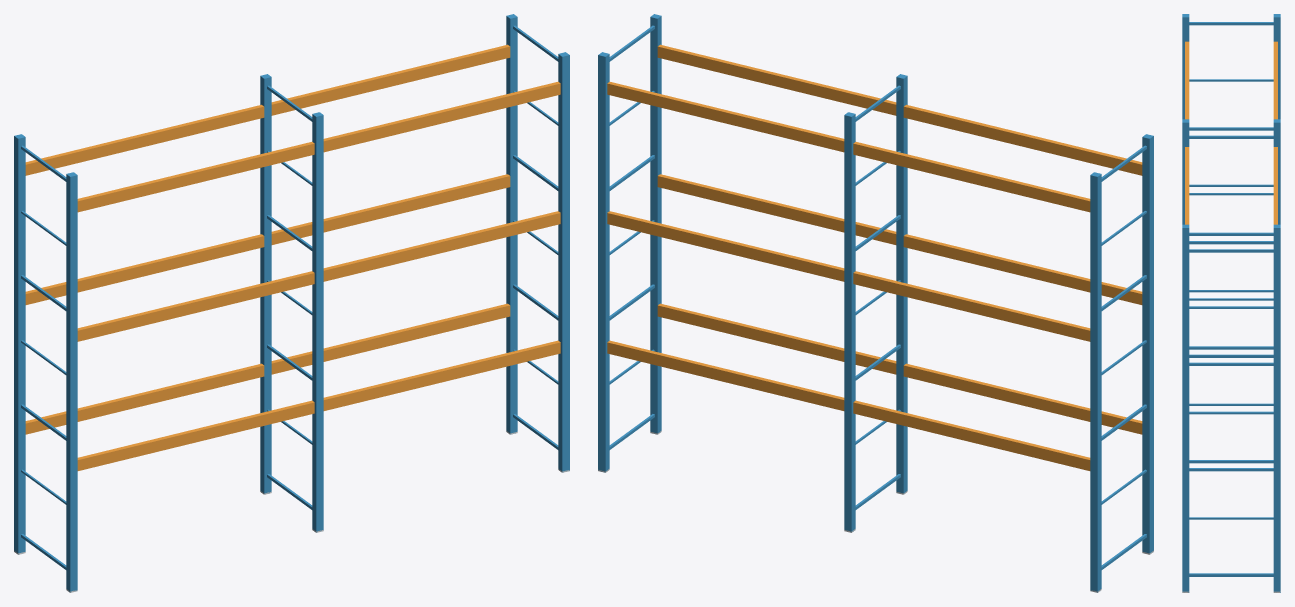
Rendered from concept-pallet-rack-double.glb.
The picture shows the model from 3 angles, left to right: view 1: azimuth 30°, elevation 25°; view 2: azimuth 150°, elevation 25°; view 3: azimuth 270°, elevation 25°; orthographic projection. The views are drawn at different scales.
Visible parts, largest first — view 1: Post, Post.004, Post.002, Post.001, Post.005, Post.003, Beam_Rear.001, Beam_Rear.002, Beam_Rear.004, Beam_Rear.005, Beam_Rear, Beam_Rear.003 (+6 smaller); view 2: Post.001, Post.005, Post.003, Post, Post.004, Post.002, Beam_Front.001, Beam_Front.002, Beam_Front.004, Beam_Front.005, Beam_Front, Beam_Front.003 (+6 smaller); view 3: Post.004, Post.005, Post, Post.001, Post.002, Post.003, Beam_Front.002, Beam_Rear.002, Beam_Front.005, Beam_Rear.005, Frame_Diag_Brace.003, Frame_Horiz_Brace (+19 smaller).
Part boxes in pixels (x1=…): Post: x1=66, y1=172, x2=77, y2=592; Post.004: x1=558, y1=52, x2=569, y2=472; Post.002: x1=312, y1=112, x2=323, y2=532; Post.001: x1=14, y1=134, x2=25, y2=554; Post.005: x1=506, y1=14, x2=517, y2=433; Post.003: x1=260, y1=74, x2=271, y2=493; Beam_Rear.001: x1=77, y1=271, x2=314, y2=341; Beam_Rear.002: x1=77, y1=142, x2=314, y2=212; Beam_Rear.004: x1=323, y1=211, x2=560, y2=281; Beam_Rear.005: x1=323, y1=81, x2=560, y2=152; Beam_Rear: x1=77, y1=400, x2=314, y2=470; Beam_Rear.003: x1=323, y1=340, x2=560, y2=410; Post.001: x1=1090, y1=172, x2=1101, y2=592; Post.005: x1=598, y1=52, x2=609, y2=472; Post.003: x1=844, y1=112, x2=855, y2=532; Post: x1=1142, y1=134, x2=1153, y2=553; Post.004: x1=650, y1=14, x2=661, y2=433; Post.002: x1=896, y1=74, x2=907, y2=493; Beam_Front.001: x1=853, y1=271, x2=1090, y2=341; Beam_Front.002: x1=853, y1=142, x2=1090, y2=212; Beam_Front.004: x1=607, y1=211, x2=844, y2=281; Beam_Front.005: x1=607, y1=81, x2=844, y2=152; Beam_Front: x1=853, y1=400, x2=1090, y2=470; Beam_Front.003: x1=607, y1=340, x2=844, y2=410; Post.004: x1=1182, y1=224, x2=1189, y2=592; Post.005: x1=1273, y1=224, x2=1280, y2=592; Post: x1=1182, y1=14, x2=1189, y2=119; Post.001: x1=1273, y1=14, x2=1280, y2=119; Post.002: x1=1182, y1=119, x2=1189, y2=224; Post.003: x1=1273, y1=119, x2=1280, y2=224; Beam_Front.002: x1=1273, y1=41, x2=1277, y2=119; Beam_Rear.002: x1=1185, y1=41, x2=1189, y2=119; Beam_Front.005: x1=1273, y1=147, x2=1277, y2=224; Beam_Rear.005: x1=1185, y1=147, x2=1189, y2=224; Frame_Diag_Brace.003: x1=1189, y1=411, x2=1273, y2=414; Frame_Horiz_Brace: x1=1189, y1=362, x2=1273, y2=365.
Size of the model in its own units: 5.66 by 4.5 by 1.1.
